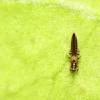Thrips: (64, 29, 85, 81)
